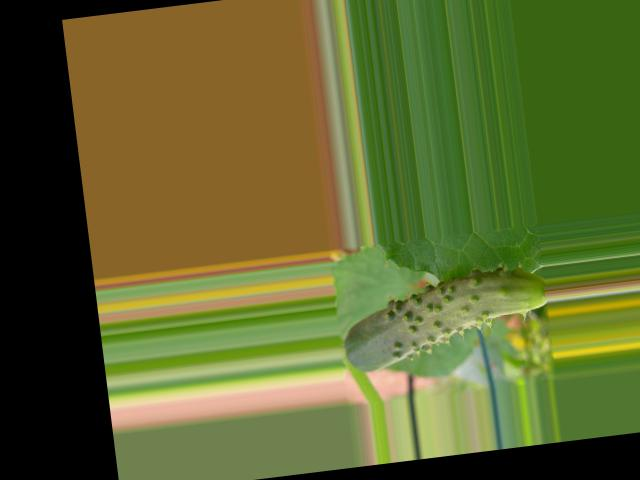cucumber: (335, 261, 552, 373)
